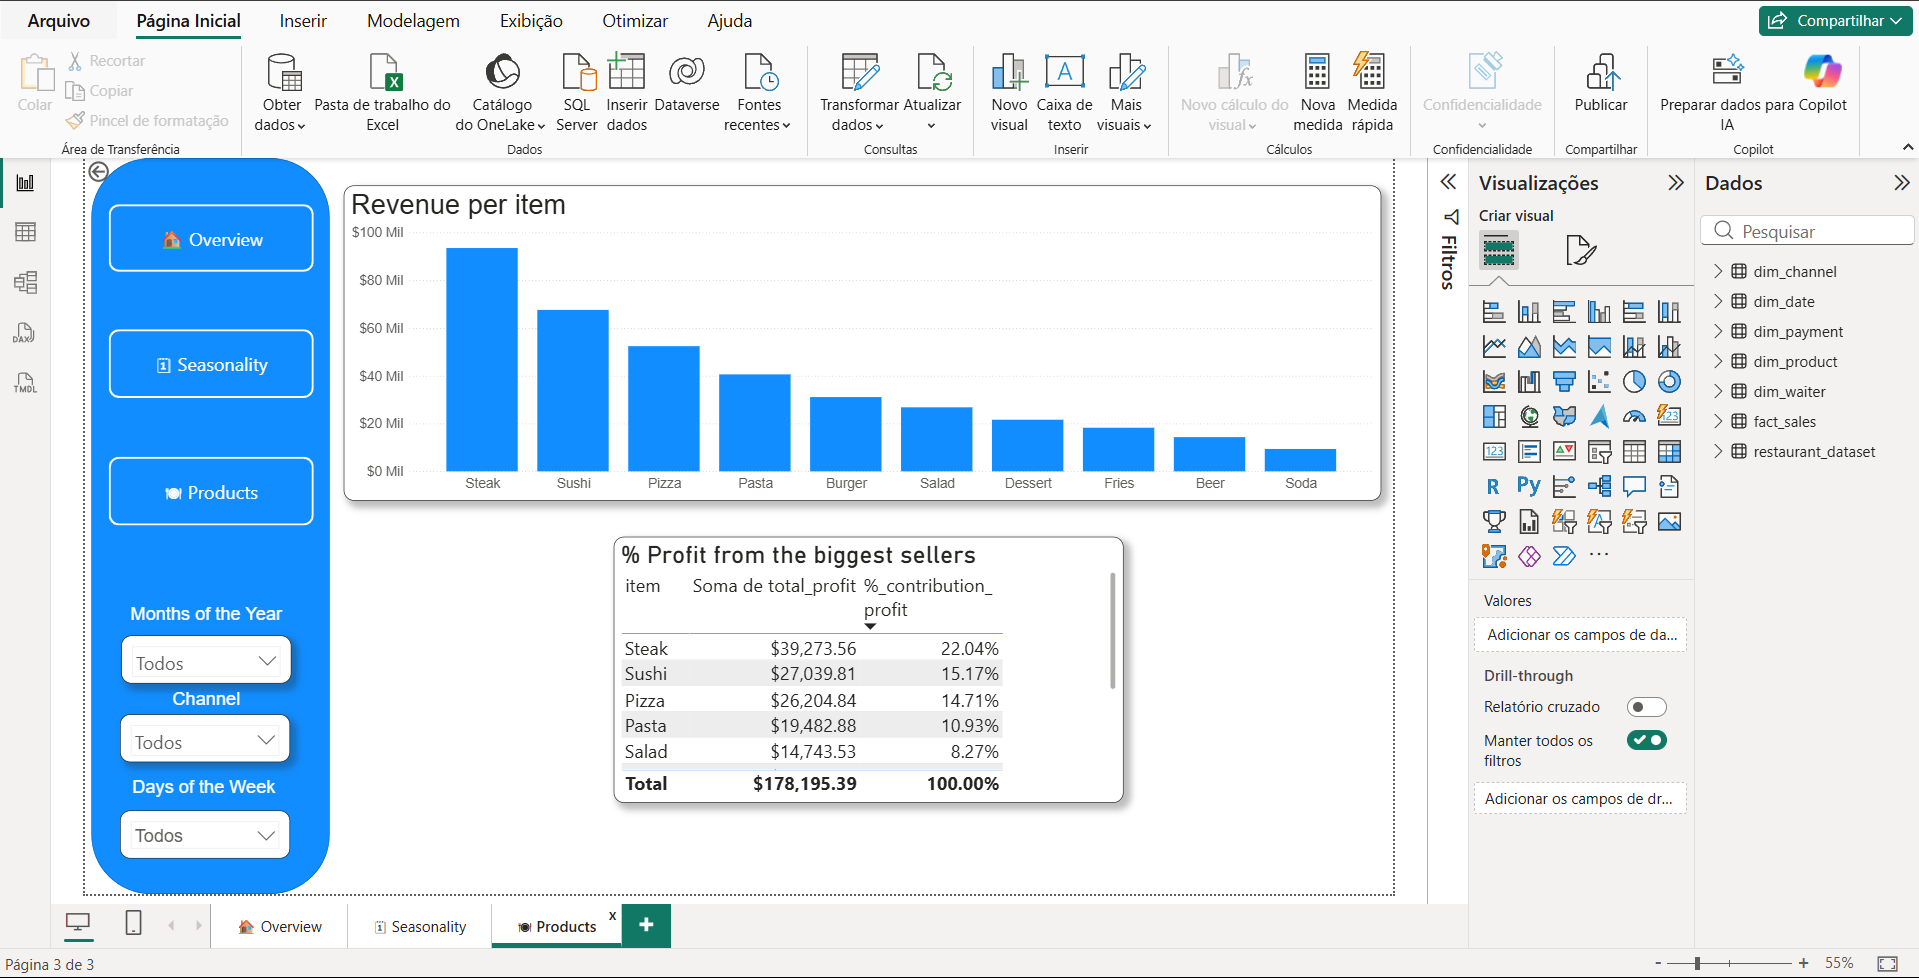

The dashboard page shown, as its layout file describes it:
{"tool":"powerbi","page":{"name":"🍽 Products","canvas":[1920,1080],"ordinal":2},"visuals":[{"type":"shape","box":[10,0,350,1080],"z":0},{"type":"actionButton","title":"🏠 Overview","box":[34.9,67.9,300.8,99],"z":1000},{"type":"actionButton","title":"🏠 Overview","box":[34.9,251.3,300.8,100.9],"z":2000},{"type":"actionButton","title":"🏠 Overview","box":[34.9,438.4,300.8,100.9],"z":3000},{"type":"clusteredColumnChart","title":"Revenue per item","fields":{"Y":["Sum(fact_sales.total_revenue)"],"Category":["dim_product.item"]},"box":[379.7,40.4,1522.4,462.2],"z":5000},{"type":"tableEx","title":"% Profit from the biggest sellers","fields":{"Values":["dim_product.item","Sum(fact_sales.total_profit)","fact_sales.%_contribution_profit"]},"box":[775.9,555.8,748.4,390.7],"z":6000},{"type":"slicer","fields":{"Values":["dim_date.month_name"]},"box":[52.5,700.3,249.7,70.6],"z":7000},{"type":"slicer","fields":{"Values":["dim_channel.channel"]},"box":[50.7,816.2,249.7,70.6],"z":8000},{"type":"textbox","box":[47.1,649.7,260.6,50.7],"z":9000},{"type":"textbox","box":[52.5,774.5,249.7,45.2],"z":10000},{"type":"textbox","box":[52.5,903,242.5,43.4],"z":11000},{"type":"slicer","fields":{"Values":["dim_date.weekday_name"]},"box":[50.7,957.3,249.7,70.6],"z":12000},{"type":"actionButton","box":[0,0,100,40],"z":13000}]}

Visuals, with their boxes on the page's 1920x1080 design canvas (x1, y1, x2, y2). These are canvas units, not pixel positions in the 1919x978 screenshot, which may show the page scaled, cropped or inside an application window:
shape: locate(10, 0, 360, 1080)
"🏠 Overview" actionButton: locate(35, 68, 336, 167)
"🏠 Overview" actionButton: locate(35, 251, 336, 352)
"🏠 Overview" actionButton: locate(35, 438, 336, 539)
"Revenue per item" clusteredColumnChart: locate(380, 40, 1902, 503)
"% Profit from the biggest sellers" tableEx: locate(776, 556, 1524, 946)
slicer - dim_date.month_name: locate(52, 700, 302, 771)
slicer - dim_channel.channel: locate(51, 816, 300, 887)
textbox: locate(47, 650, 308, 700)
textbox: locate(52, 774, 302, 820)
textbox: locate(52, 903, 295, 946)
slicer - dim_date.weekday_name: locate(51, 957, 300, 1028)
actionButton: locate(0, 0, 100, 40)
